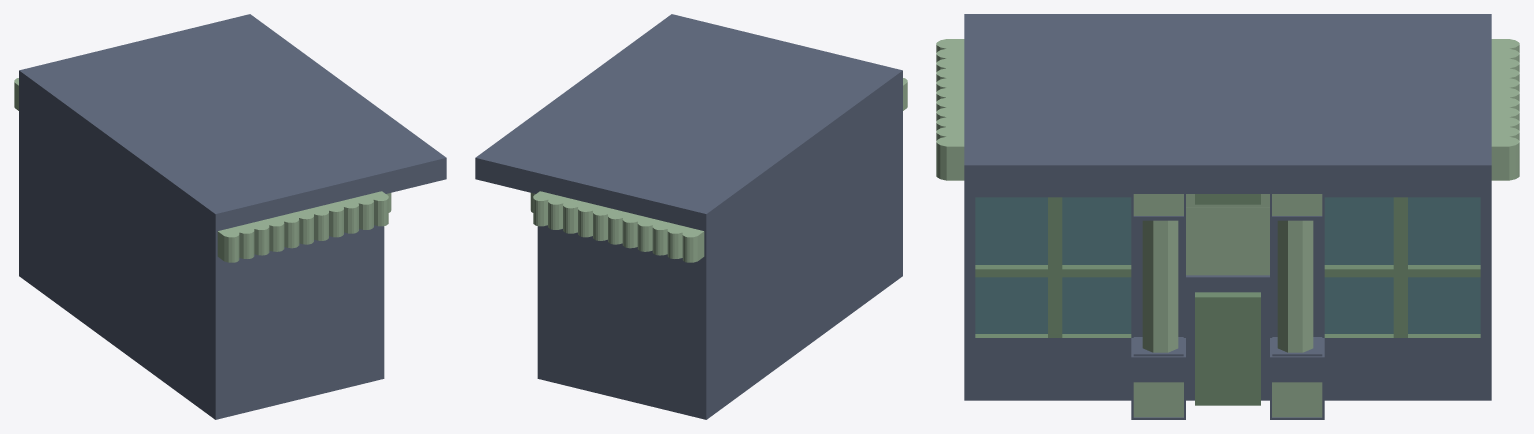
File: Store4b.fbx
3 views of the same model, side by side, from view 1: azimuth 30°, elevation 25°; view 2: azimuth 150°, elevation 25°; view 3: azimuth 270°, elevation 25° (orthographic). The views are drawn at different scales.
Parts seen in each view (by area): view 1: Store4b; view 2: Store4b; view 3: Store4b.
Boxes of the visible parts, box(x1,y1,x2,y2) form: Store4b: box(14, 14, 446, 419); Store4b: box(475, 14, 907, 419); Store4b: box(936, 14, 1519, 419).
Size of the model in its own units: 274 by 233 by 446.
